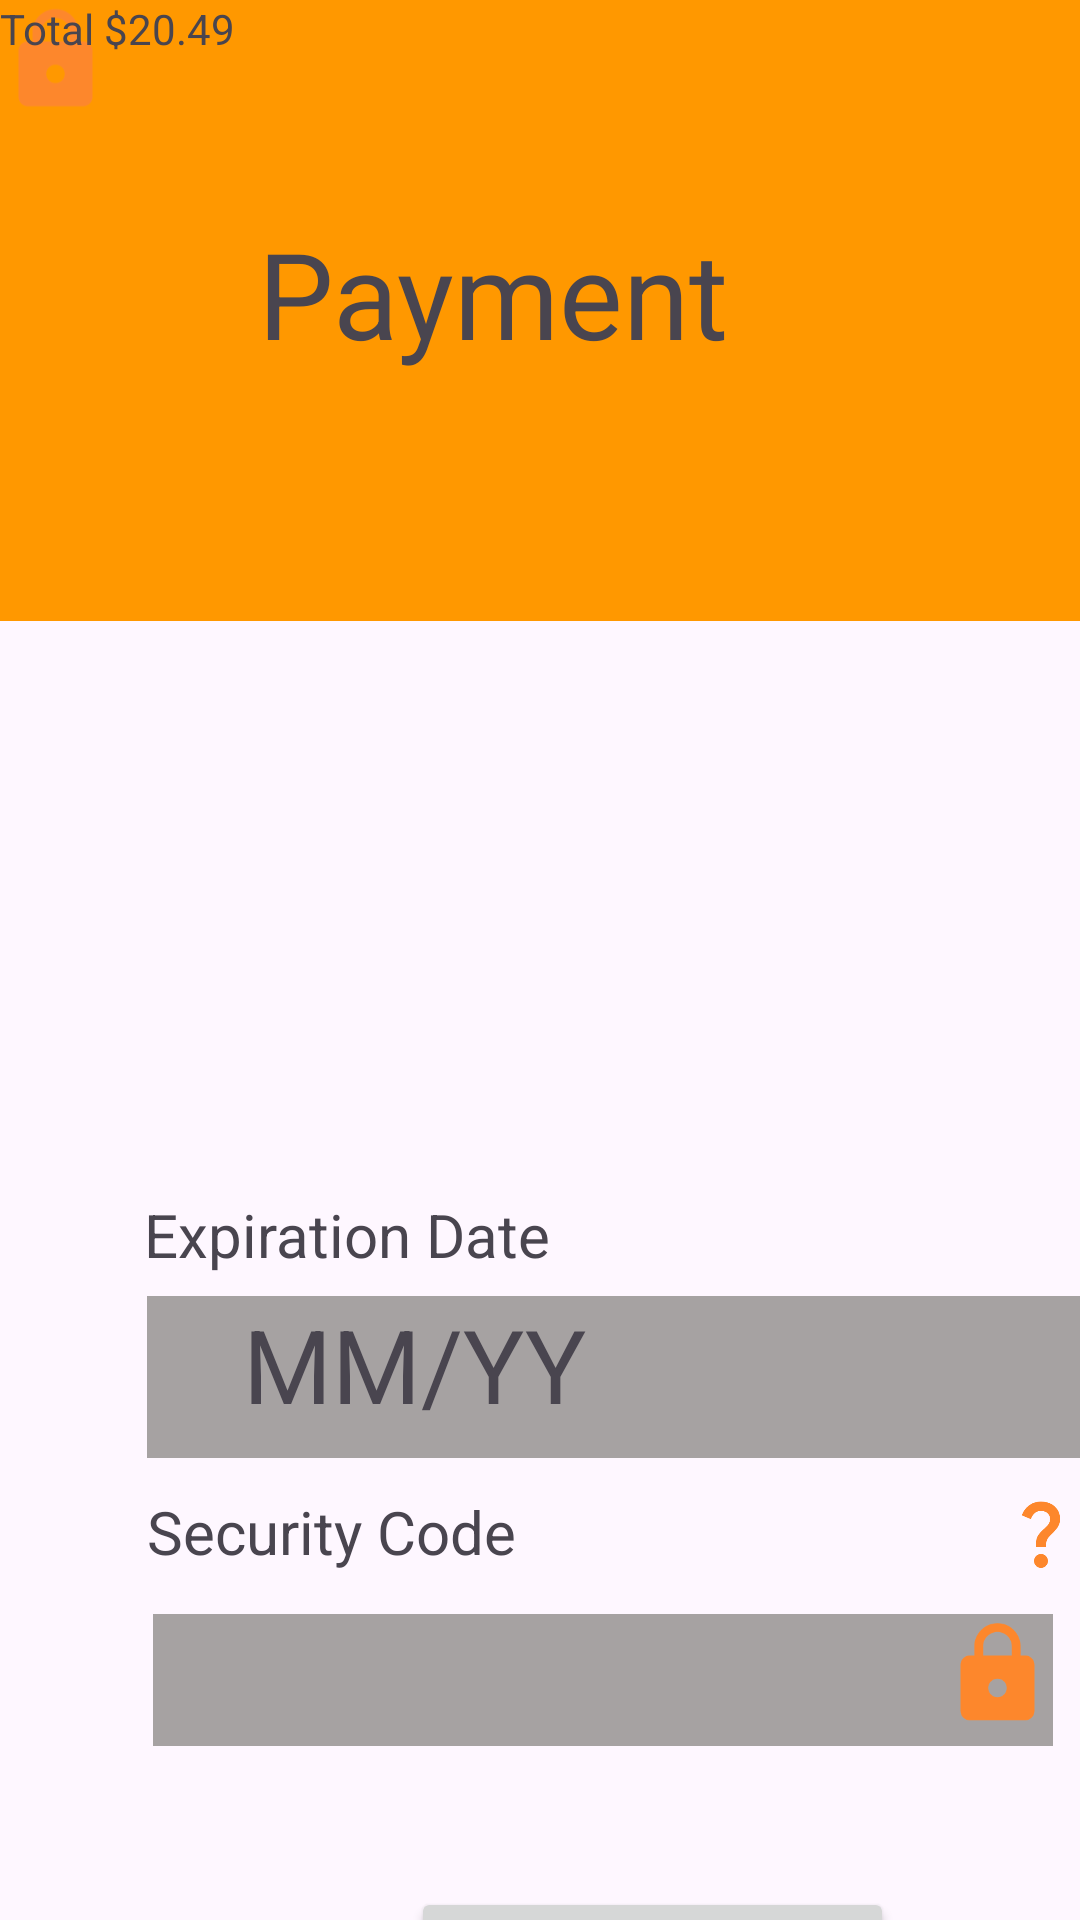

Where to tap for icons on this 1080×1920 app screen, as (x=x, y=y):
question mark: (x=1041, y=1534)
